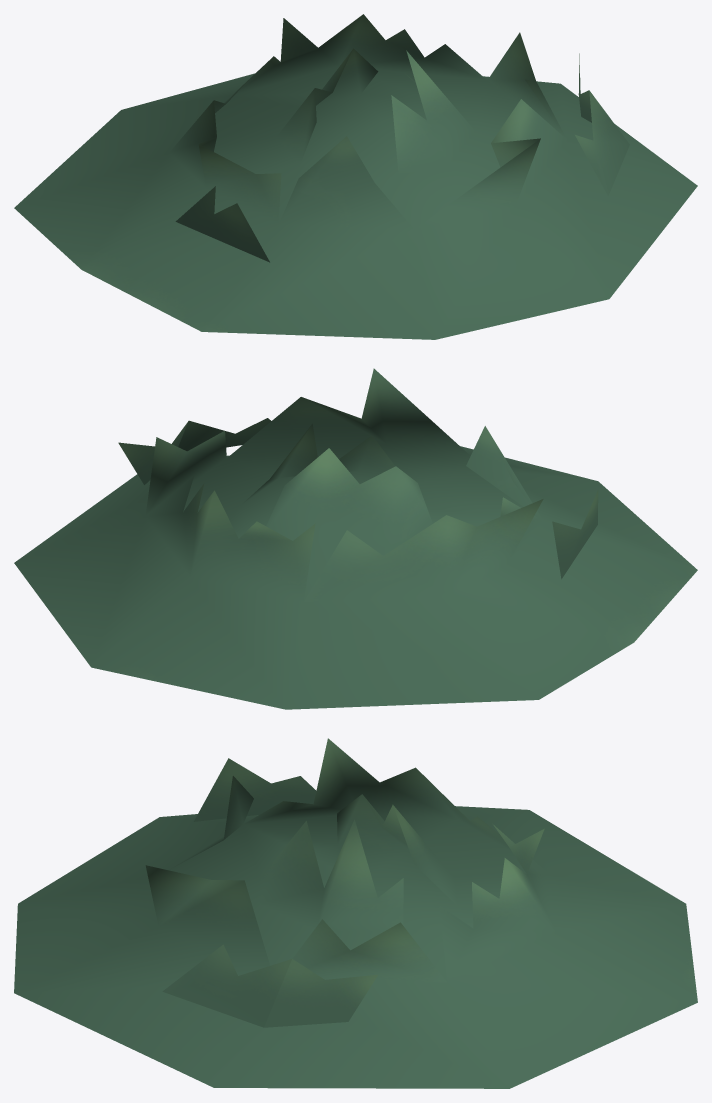
The model's file is grass_mound_02.fbx.
3 renders of one model, top to bottom at view 1: azimuth 30°, elevation 25°; view 2: azimuth 150°, elevation 25°; view 3: azimuth 270°, elevation 25°, orthographic. The views are drawn at different scales.
Visible parts, largest first — view 1: grass_mound; view 2: grass_mound; view 3: grass_mound.
Part boxes in pixels (left/top/right/bottom): grass_mound: left=14, top=14, right=697, bottom=339; grass_mound: left=14, top=368, right=697, bottom=709; grass_mound: left=14, top=738, right=697, bottom=1088.
Size of the model in its own units: 13.14 by 3.25 by 13.27.
